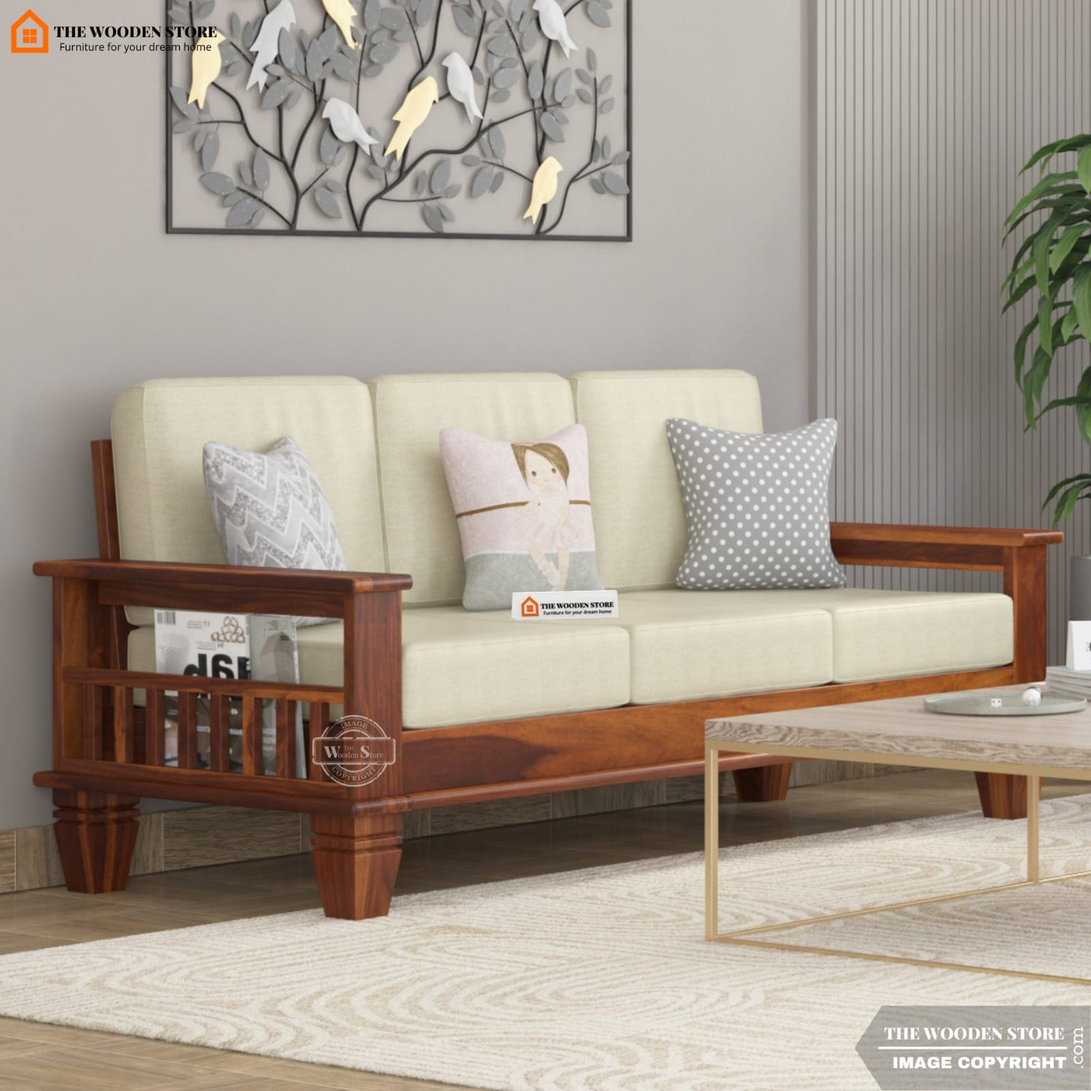3seatersofa: (34, 370, 1060, 918), (721, 751, 790, 799), (977, 773, 1026, 817)
backrest: (112, 369, 762, 606)
base: (397, 666, 1013, 805)
leftarmrest: (831, 522, 1062, 681)
leg: (312, 814, 401, 920), (54, 790, 138, 893), (732, 764, 792, 800), (978, 775, 1023, 817)
pillow: (666, 418, 843, 591), (439, 425, 603, 611), (205, 438, 346, 569)
rightarmrest: (34, 560, 410, 811)
seat: (402, 588, 1011, 729), (299, 622, 342, 684)
